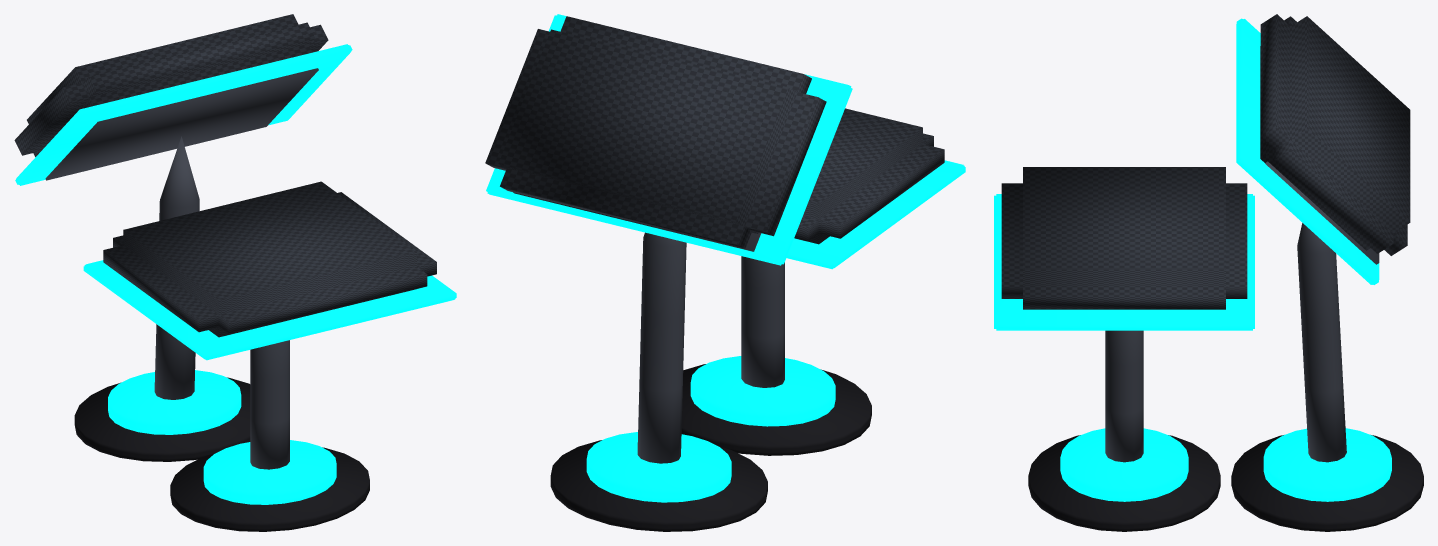
Rendered from CyberBench.glb.
The picture shows the model from 3 angles, left to right: view 1: azimuth 30°, elevation 25°; view 2: azimuth 150°, elevation 25°; view 3: azimuth 270°, elevation 25°; orthographic projection. The views are drawn at different scales.
Parts seen in each view (by area): view 1: CyberBench, CyberBench_Glow; view 2: CyberBench, CyberBench_Glow; view 3: CyberBench, CyberBench_Glow.
Boxes of the visible parts, x1,y1,x2,y2 form: CyberBench: (14, 14, 436, 531); CyberBench_Glow: (15, 44, 456, 504); CyberBench: (485, 16, 944, 531); CyberBench_Glow: (486, 14, 965, 502); CyberBench: (1001, 14, 1423, 531); CyberBench_Glow: (994, 18, 1391, 501).
Size of the model in its own units: 2.26 by 3.11 by 2.91.
2 materials, 1 textured.
